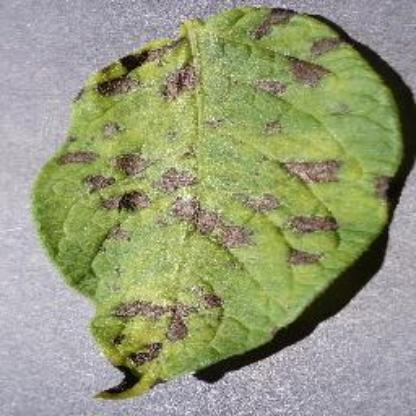Early-Blight: (33, 6, 409, 400)
